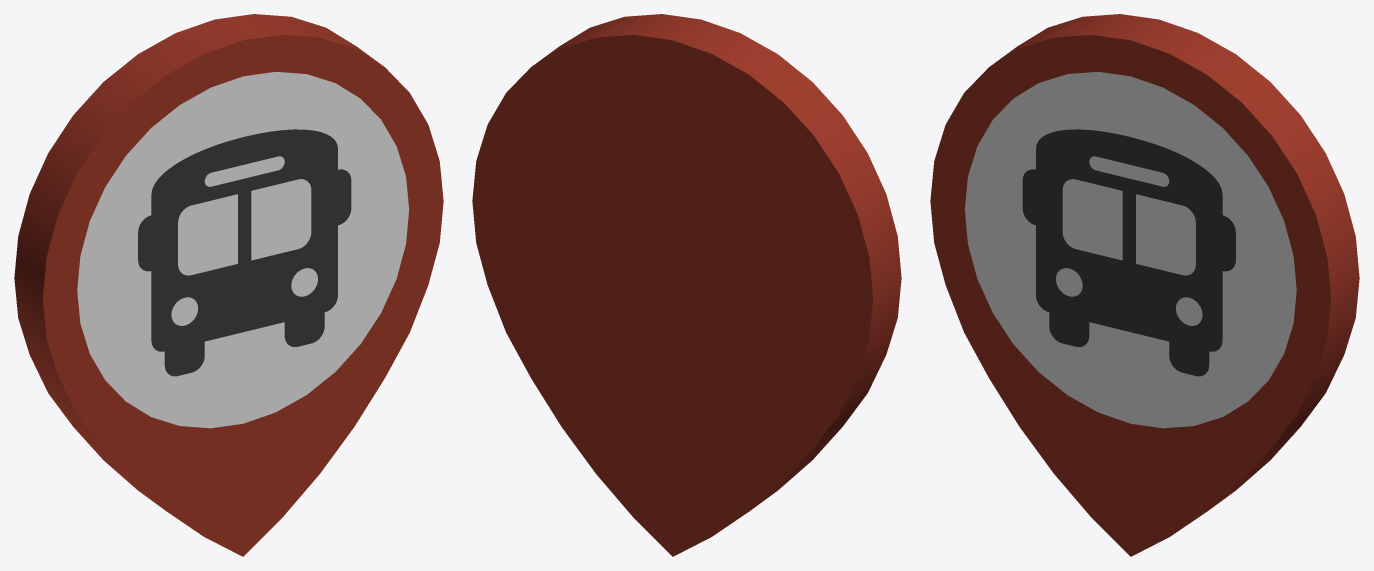
Rendered from x_pin_bus.glb.
3 views of the same model, side by side, from view 1: azimuth 30°, elevation 25°; view 2: azimuth 150°, elevation 25°; view 3: azimuth 330°, elevation 25° (orthographic).
Visible parts, largest first — view 1: x_pin_bus; view 2: x_pin_bus; view 3: x_pin_bus.
Boxes of the visible parts, left/top/right/bottom form: x_pin_bus: left=14, top=14, right=443, bottom=556; x_pin_bus: left=472, top=14, right=901, bottom=556; x_pin_bus: left=930, top=14, right=1359, bottom=556.
Bounding box in the file's own units: 1.73 × 2.13 × 0.2244.
